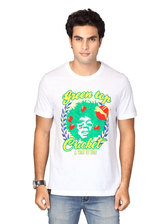clothoes: (32, 61, 136, 201)
